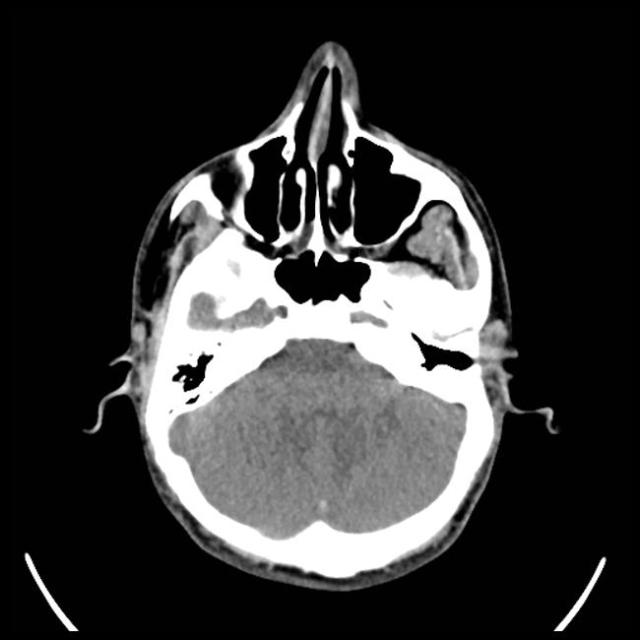lesion: (85, 38, 558, 595)
